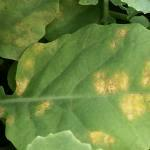Bok-Choy-Diseased: (7, 25, 150, 150)
